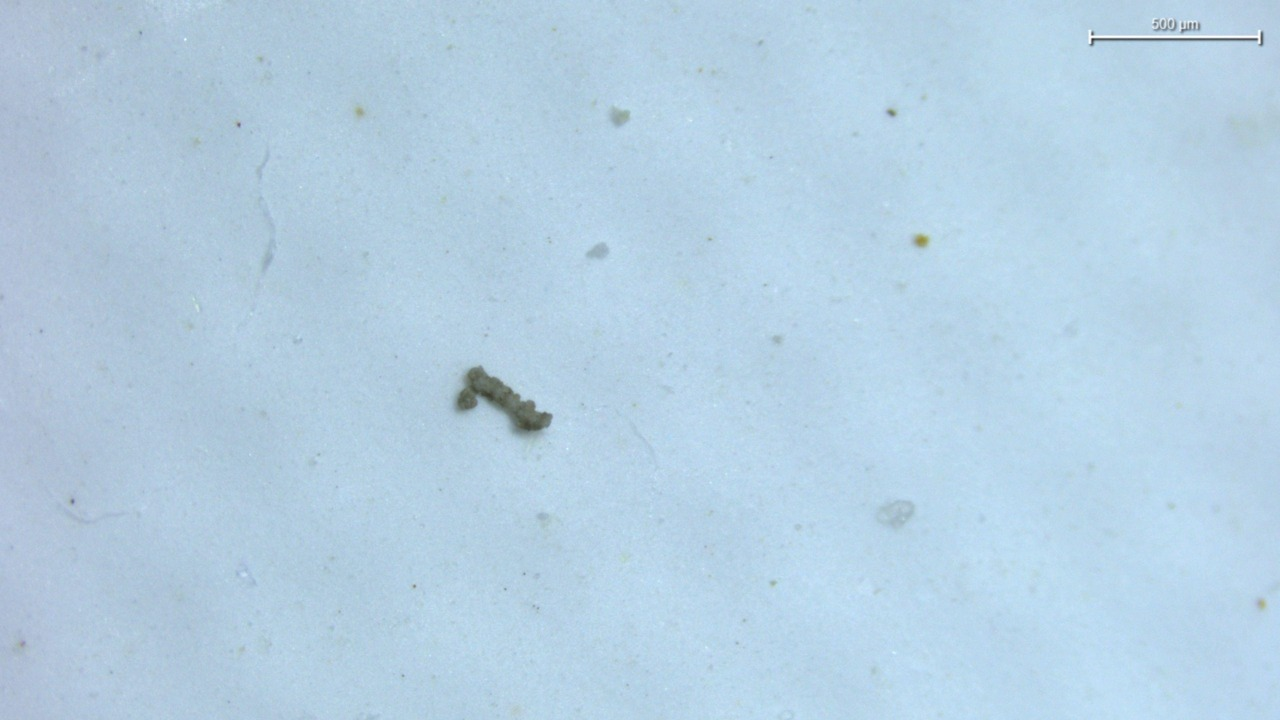microplastic_fragment: (457, 366, 551, 430)
